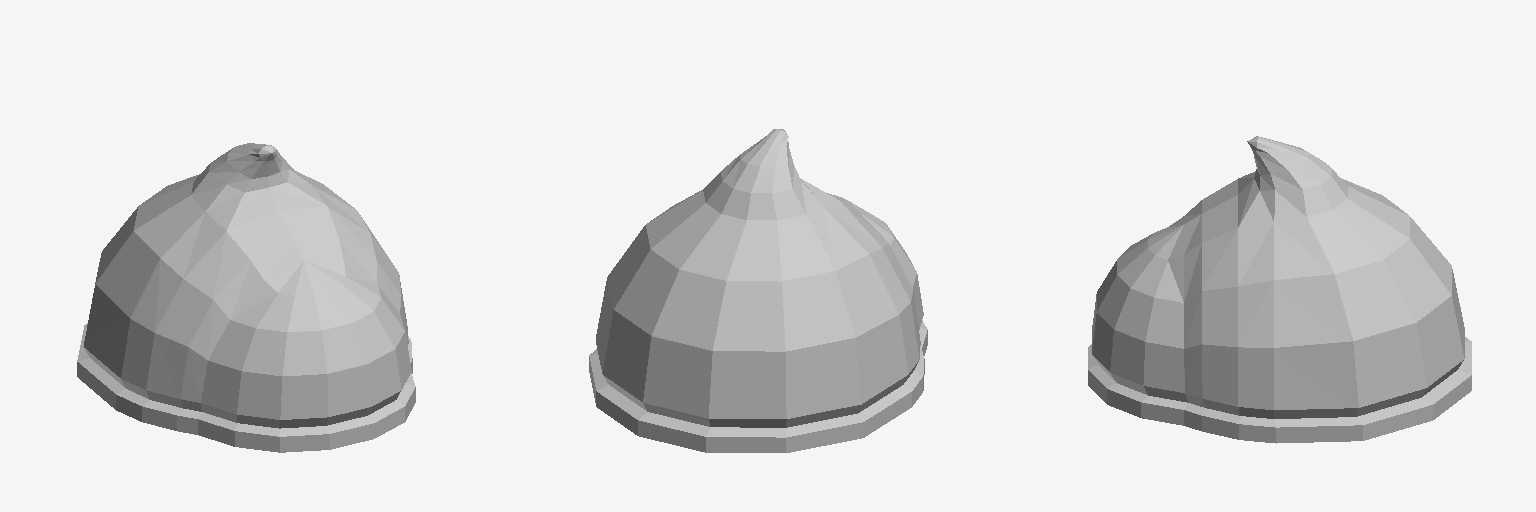
Rendered from Original Blob.obj.
3 renders of one model, left to right at view 1: azimuth 30°, elevation 25°; view 2: azimuth 150°, elevation 25°; view 3: azimuth 270°, elevation 25°, orthographic.
Parts seen in each view (by area): view 1: polySurface4 polySurface3; view 2: polySurface4 polySurface3; view 3: polySurface4 polySurface3.
Boxes of the visible parts, x1,y1,x2,y2 form: polySurface4 polySurface3: [77, 143, 415, 452]; polySurface4 polySurface3: [589, 129, 927, 452]; polySurface4 polySurface3: [1088, 136, 1471, 443].
Size of the model in its own units: 1.64 by 1.31 by 1.92.